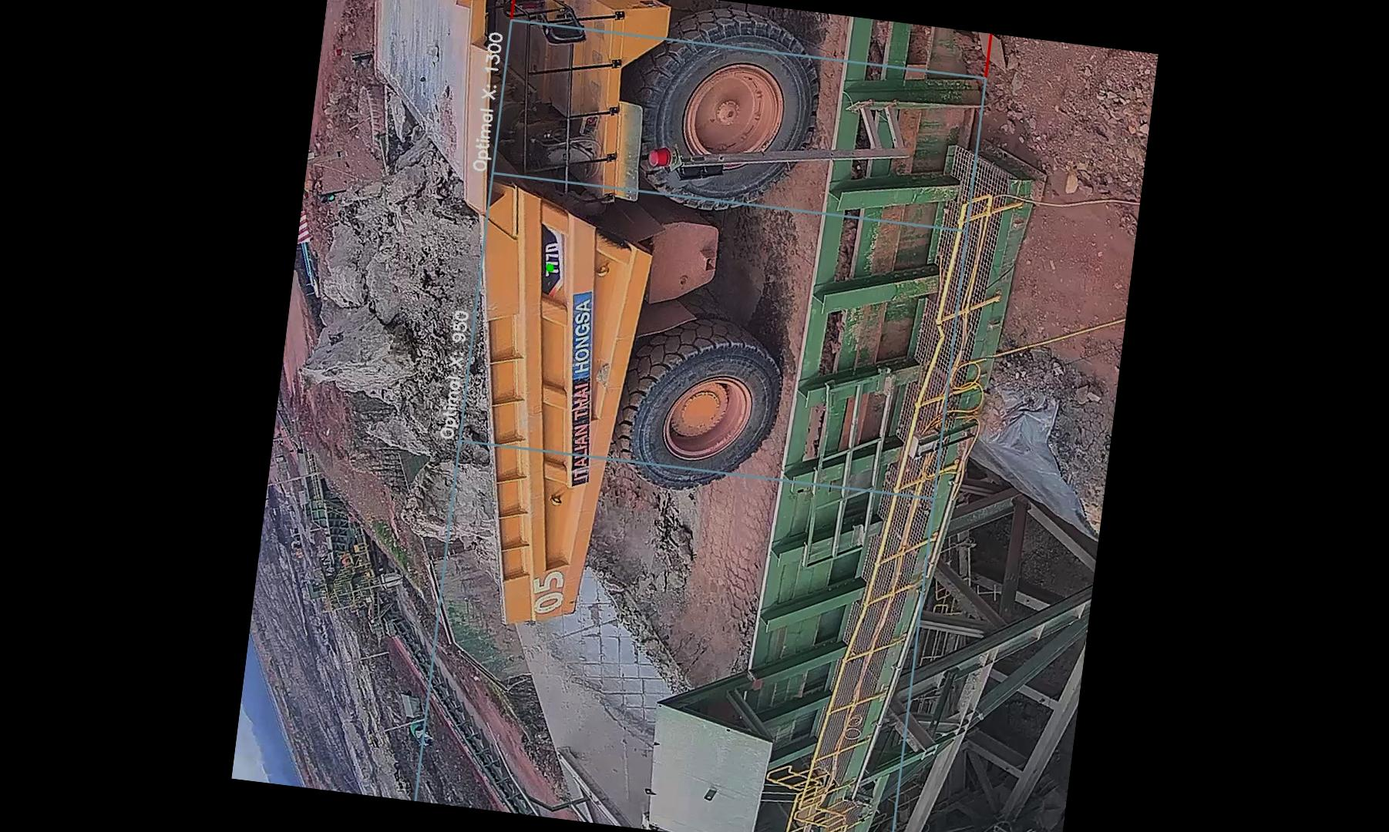company: (540, 275, 619, 506)
full_load: (291, 132, 521, 483)
mining_truck: (261, 0, 815, 672)
tail_number: (518, 555, 577, 628)
truck_size: (523, 215, 570, 306)
